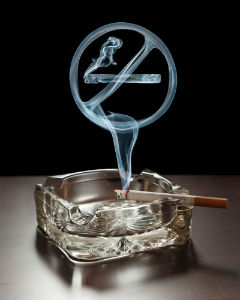cigarette: (111, 186, 232, 210)
